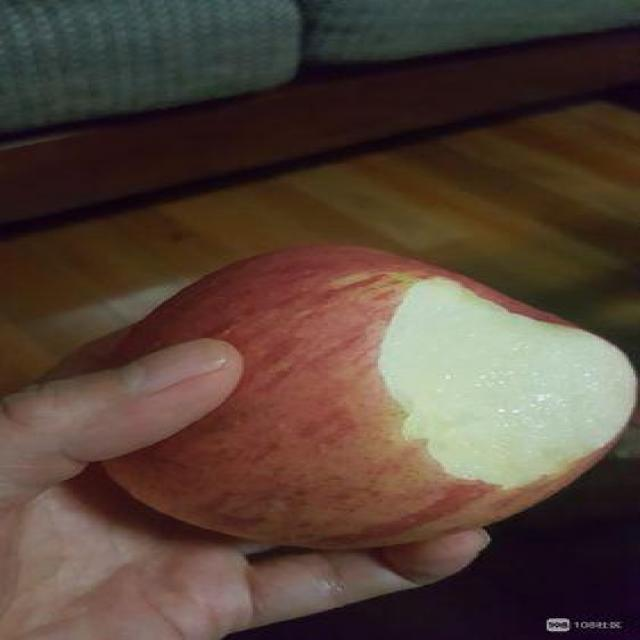Rotten: (86, 236, 640, 540)
